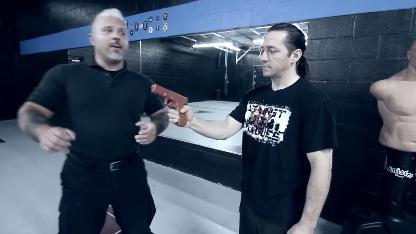pistol: (150, 82, 188, 126)
